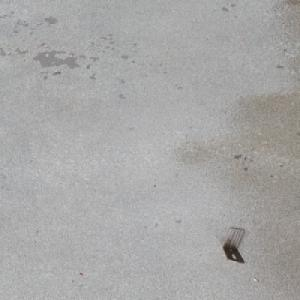MetalPart: (221, 227, 245, 264)
